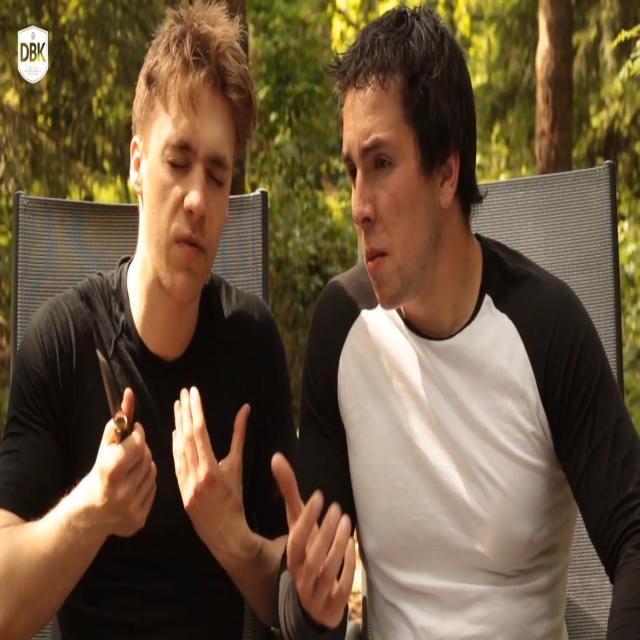knife: (98, 351, 131, 439)
